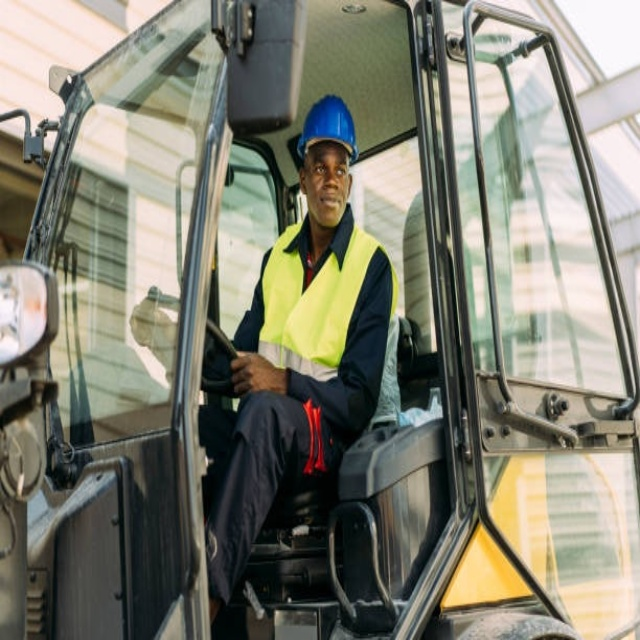Gafas: (304, 160, 351, 182)
Sin_guantes: (231, 350, 287, 397)
Sin_mascara: (317, 191, 342, 223)
